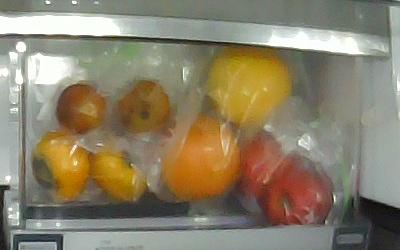apple_vinyl: (256, 151, 334, 225), (240, 131, 284, 195)
grapefruit_vinyl: (157, 112, 239, 201), (206, 46, 292, 126)
persimmon_vinyl: (32, 132, 89, 203), (88, 138, 148, 202)
prune_vinyl: (112, 79, 170, 132), (54, 82, 107, 134)
